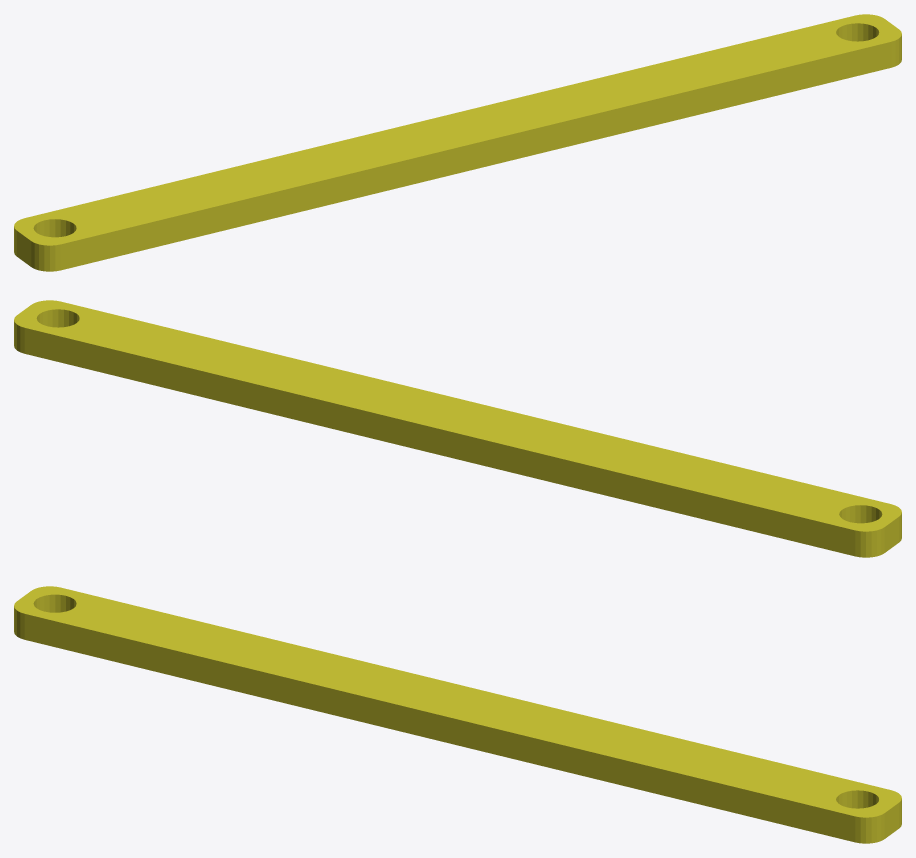
Rendered from oberon_tip_holder.dae.
The picture shows the model from 3 angles, top to bottom: view 1: azimuth 30°, elevation 25°; view 2: azimuth 150°, elevation 25°; view 3: azimuth 330°, elevation 25°; orthographic projection.
Visible parts, largest first — view 1: Oberon_Tip_Holder; view 2: Oberon_Tip_Holder; view 3: Oberon_Tip_Holder.
Part boxes in pixels (x1=…): Oberon_Tip_Holder: x1=14, y1=14, x2=901, y2=271; Oberon_Tip_Holder: x1=14, y1=300, x2=901, y2=557; Oberon_Tip_Holder: x1=14, y1=586, x2=901, y2=843.
Size of the model in its own units: 0.1395 by 0.01 by 0.004.
